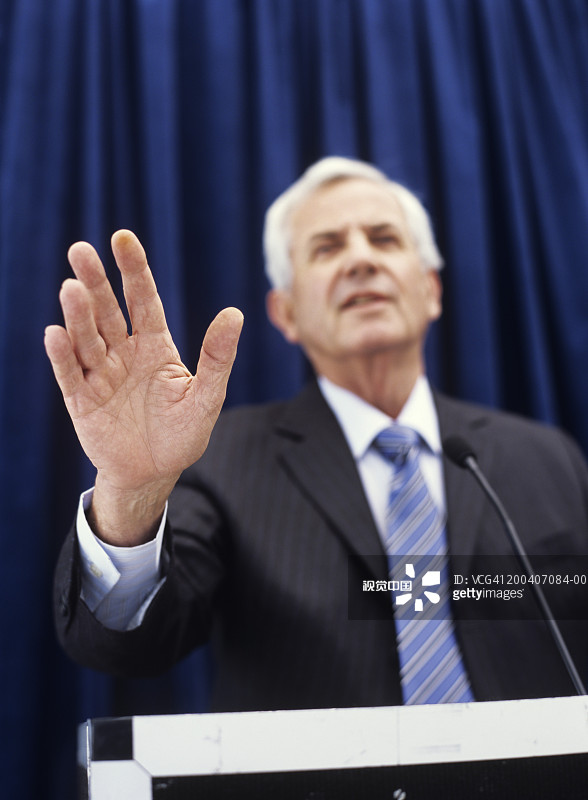no-phone: (37, 212, 262, 521)
